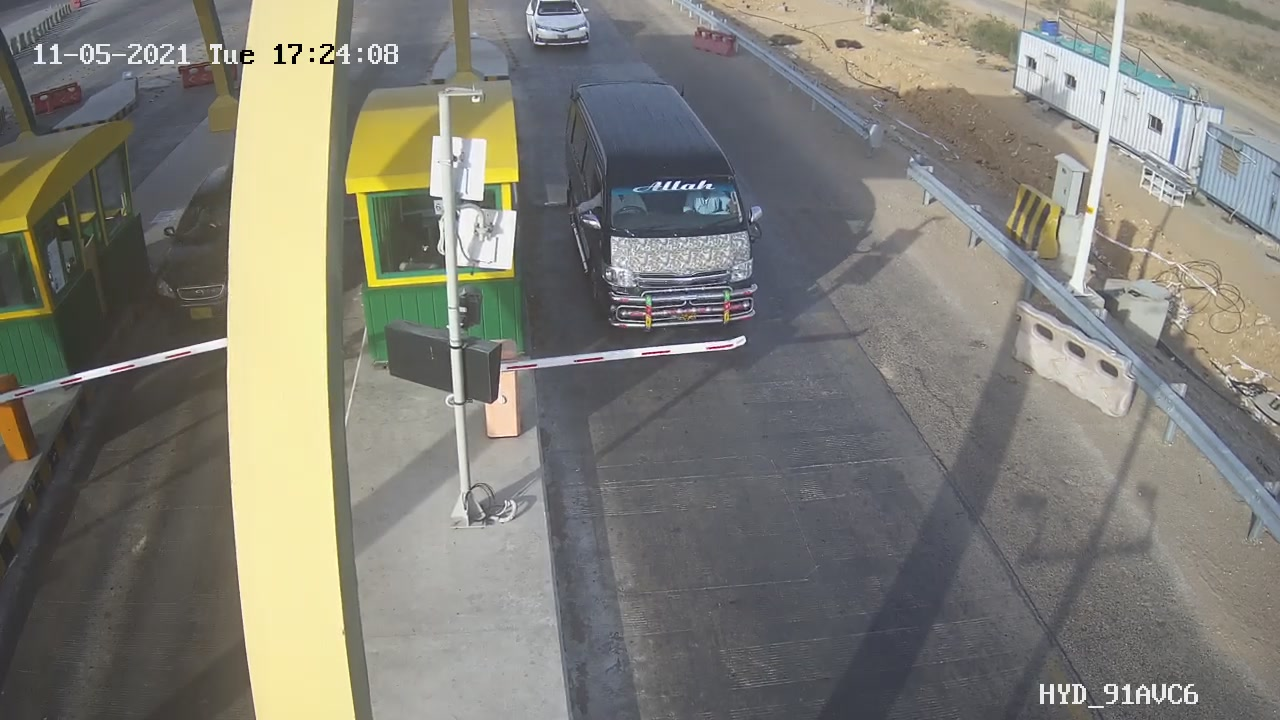F2: (539, 64, 782, 357)
